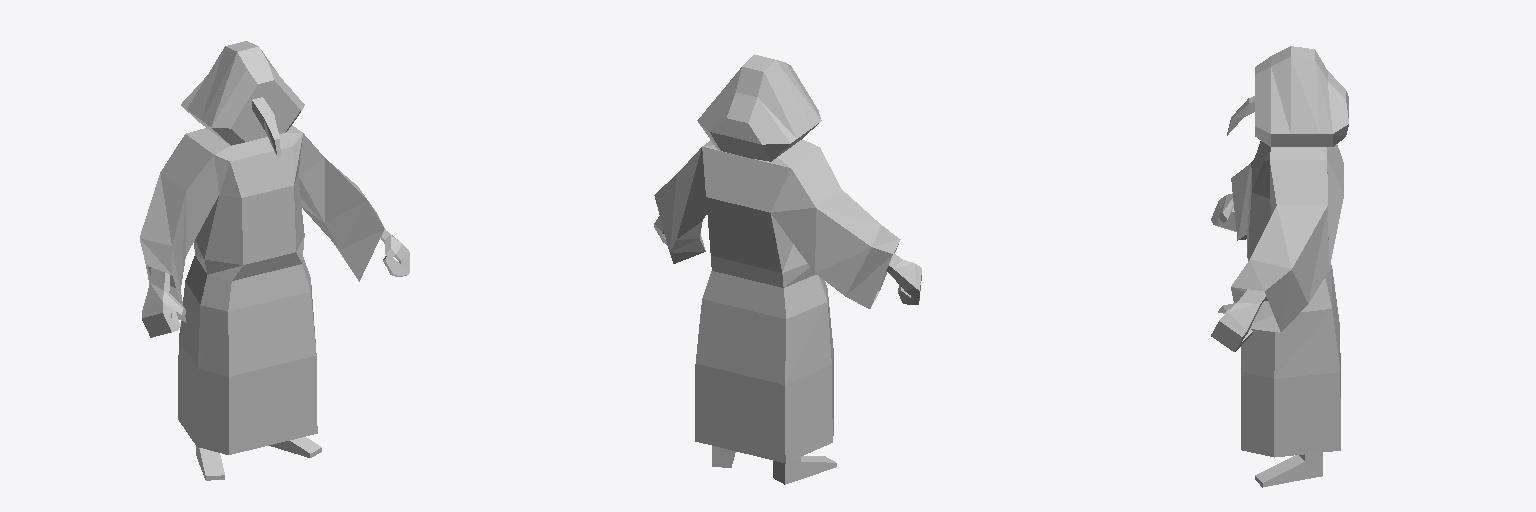
File: wizardFinalNOTRIGGED.obj
The picture shows the model from 3 angles: view 1: azimuth 30°, elevation 25°; view 2: azimuth 150°, elevation 25°; view 3: azimuth 270°, elevation 25°; orthographic projection.
Visible parts, largest first — view 1: Cube.001, Cube.003, Cube.002, cuboid, cuboid.001; view 2: Cube.001, Cube.003, cuboid; view 3: Cube.001, Cube.003, cuboid.001.
Boxes of the visible parts, <box> form: Cube.001: <box>140,41,384,454</box>; Cube.003: <box>142,229,409,337</box>; Cube.002: <box>252,97,280,157</box>; cuboid: <box>196,446,224,480</box>; cuboid.001: <box>269,437,321,457</box>; Cube.001: <box>654,54,900,463</box>; Cube.003: <box>654,216,921,304</box>; cuboid: <box>773,456,836,484</box>; Cube.001: <box>1231,46,1348,457</box>; Cube.003: <box>1211,193,1266,351</box>; cuboid.001: <box>1255,453,1322,487</box>.
Bounding box in the file's own units: 3.91 × 5.71 × 1.76.